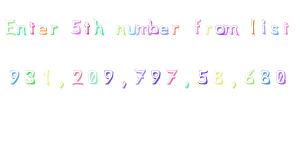,: (55, 79, 67, 90), (182, 79, 192, 91), (119, 80, 129, 90), (230, 80, 238, 91)
0: (275, 68, 288, 85), (86, 69, 99, 85)
1: (41, 69, 53, 86)
2: (69, 67, 84, 86)
3: (24, 68, 37, 86)
5: (196, 69, 210, 85), (70, 18, 82, 36)
6: (243, 67, 256, 85)
7: (132, 67, 148, 86), (163, 69, 179, 86)
8: (259, 69, 272, 86), (212, 69, 225, 85)
9: (149, 68, 162, 86), (8, 68, 21, 85), (102, 69, 114, 86)
E: (2, 16, 15, 35)
b: (147, 16, 160, 36)
e: (37, 23, 48, 37), (158, 23, 169, 36)
f: (190, 17, 203, 35)
h: (92, 17, 106, 36)
i: (259, 18, 268, 35)
l: (247, 16, 258, 36)
m: (224, 23, 240, 37), (135, 23, 150, 36)
n: (114, 23, 126, 36), (15, 23, 26, 36)
o: (215, 24, 225, 36)
r: (48, 24, 60, 36), (170, 24, 181, 36), (204, 24, 213, 35)
s: (269, 23, 281, 37)
t: (281, 18, 291, 35), (27, 19, 37, 35), (83, 21, 91, 36)
u: (126, 23, 137, 37)
